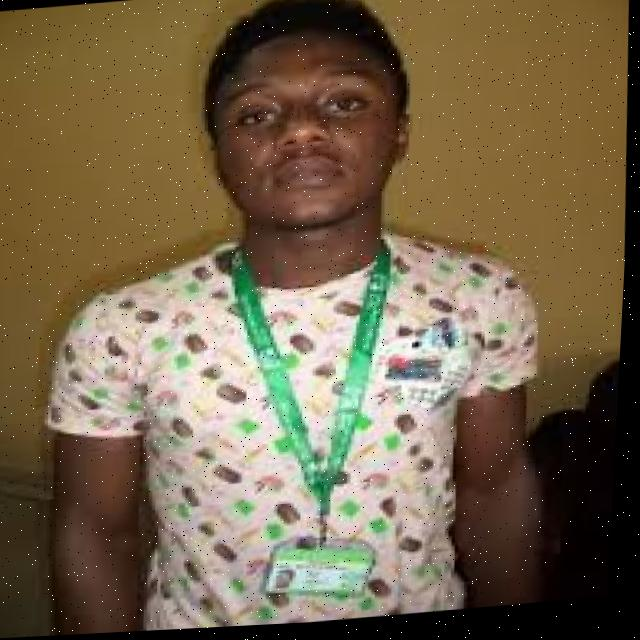id_card: (209, 227, 422, 617)
